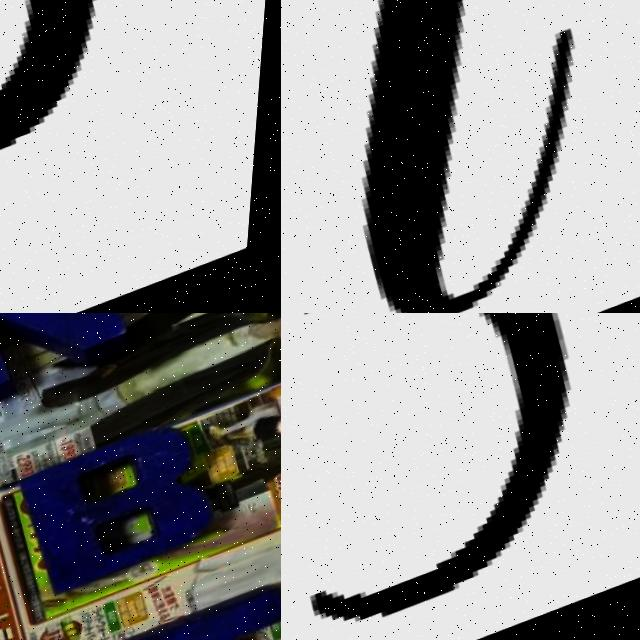5: (281, 313, 640, 640)
B: (9, 410, 248, 609)
C: (370, 0, 582, 313)
N: (0, 313, 149, 418)
T: (110, 583, 281, 640)
